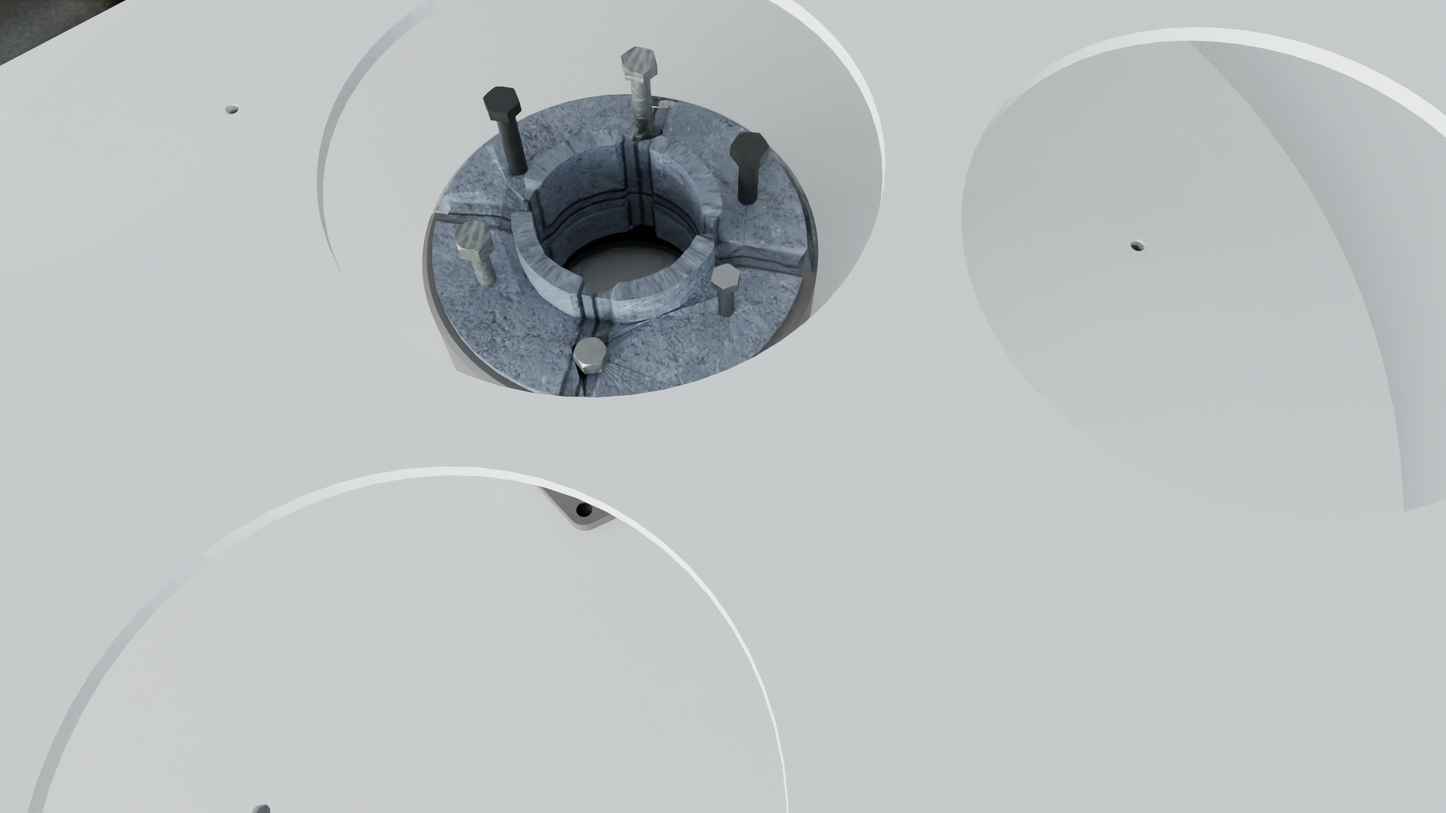bolt: (453, 221, 493, 254), (572, 337, 609, 367), (731, 132, 770, 160), (621, 47, 657, 75), (483, 87, 520, 114), (711, 263, 740, 290)
